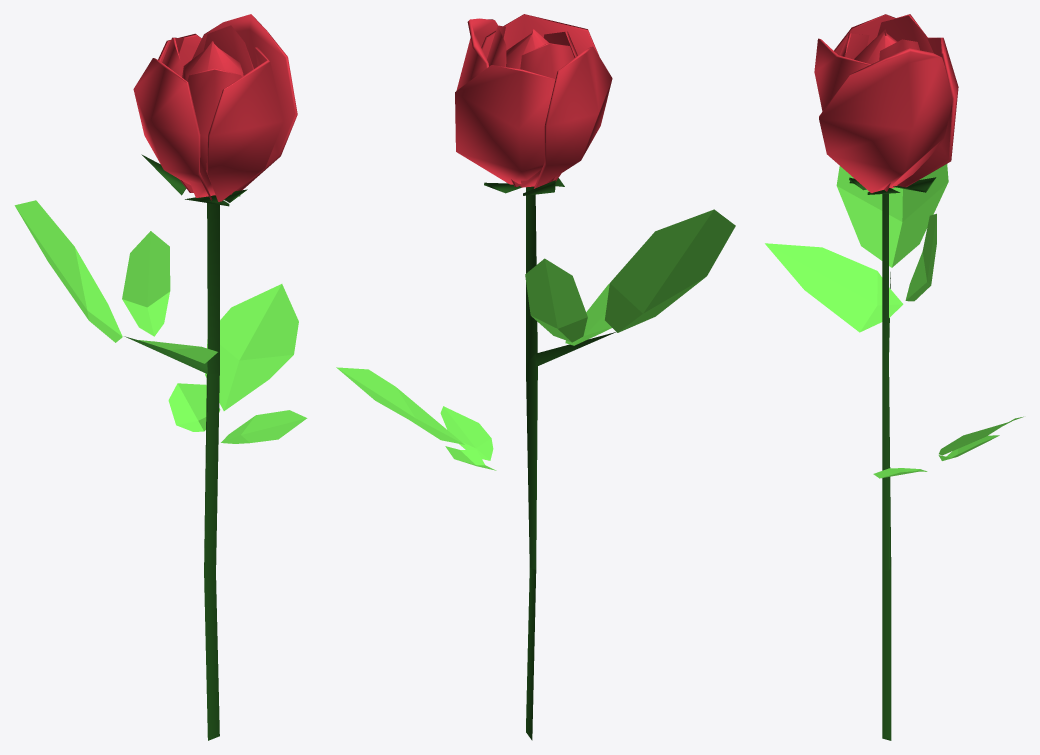
The model's file is rose.fbx.
3 views of the same model, side by side, from view 1: azimuth 30°, elevation 25°; view 2: azimuth 150°, elevation 25°; view 3: azimuth 270°, elevation 25° (orthographic).
Parts seen in each view (by area): view 1: rose; view 2: rose; view 3: rose.
Part boxes in pixels (x1,y1,x2,y2): rose: (14,14,307,740); rose: (336,14,735,740); rose: (765,14,1023,740).
Bounding box in the file's own units: 28.87 × 60.82 × 20.03.
